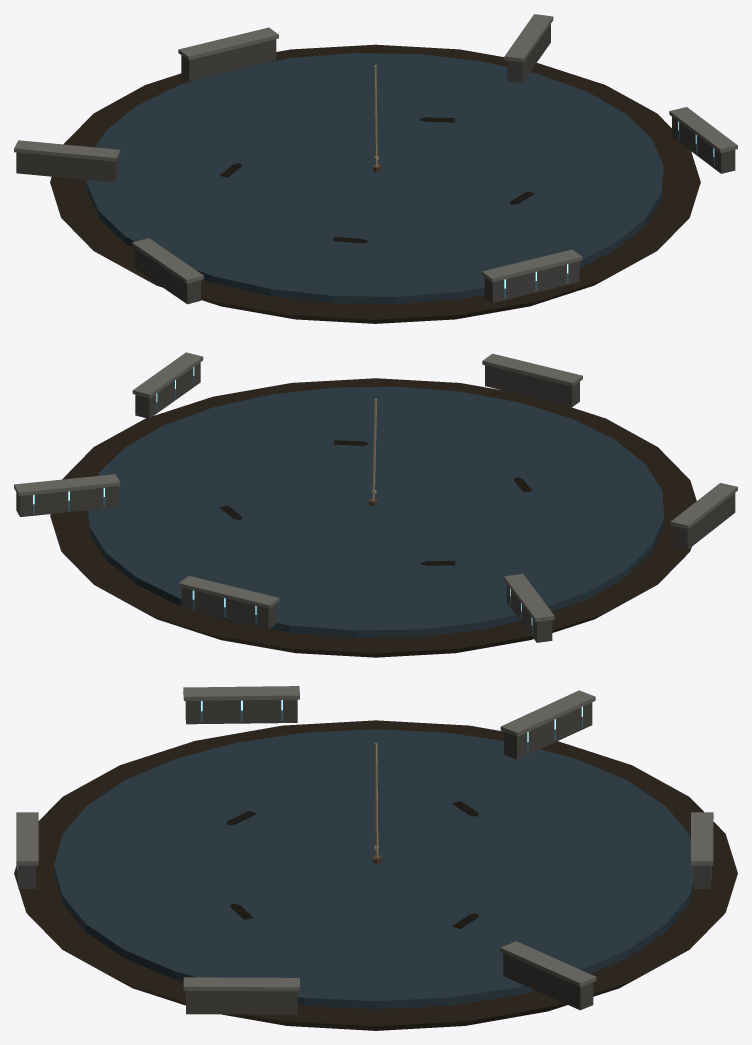
File: s3_arena_b30.glb
The picture shows the model from 3 angles, top to bottom: view 1: azimuth 30°, elevation 25°; view 2: azimuth 150°, elevation 25°; view 3: azimuth 270°, elevation 25°; orthographic projection. The views are drawn at different scales.
Parts seen in each view (by area): view 1: s3_arena_b30; view 2: s3_arena_b30; view 3: s3_arena_b30.
Part boxes in pixels (box(x1,y1,x2,y2)): s3_arena_b30: box(14, 14, 737, 323); s3_arena_b30: box(14, 352, 737, 657); s3_arena_b30: box(14, 686, 737, 1030).
Bounding box in the file's own units: 32.4 × 7 × 32.4.
